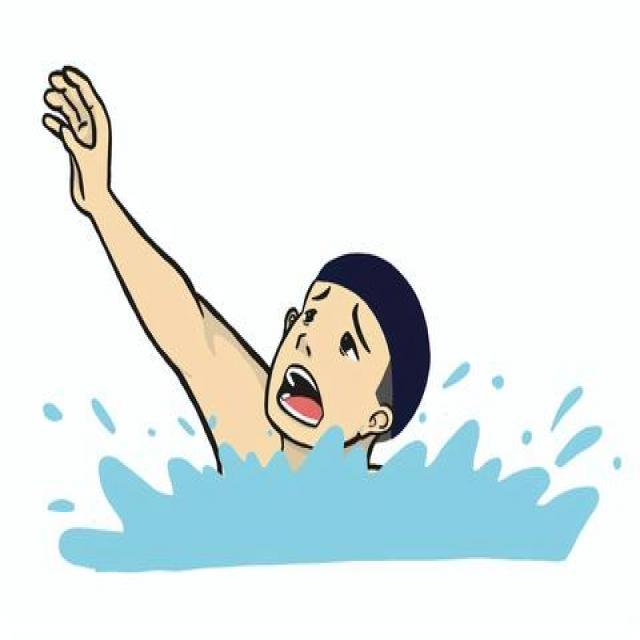Out of Water: (41, 66, 468, 531)
